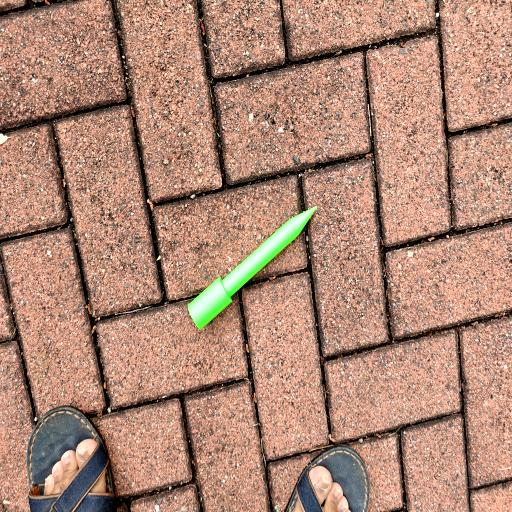Probe-Detection: (188, 206, 316, 329)
